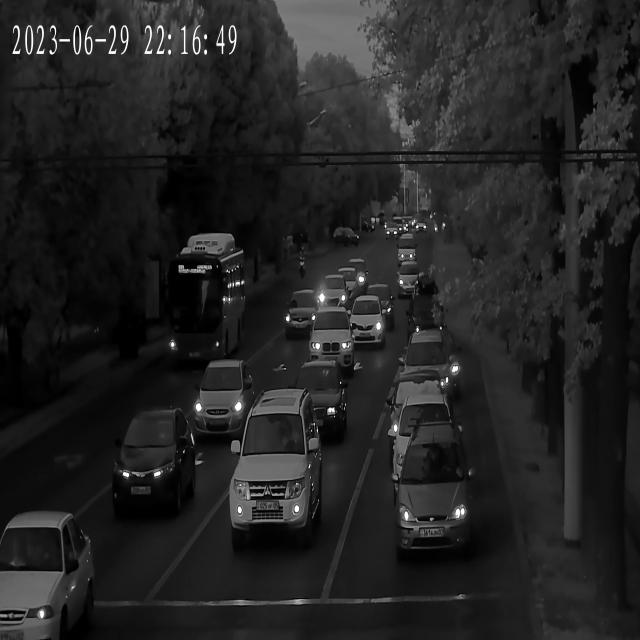Bus: (164, 234, 252, 372)
Car: (232, 395, 322, 549), (2, 510, 95, 639), (394, 430, 475, 560), (108, 408, 195, 516), (392, 394, 465, 471), (192, 362, 256, 439), (294, 362, 351, 432), (397, 334, 453, 400), (386, 378, 449, 431), (306, 312, 357, 368), (342, 294, 387, 346), (283, 289, 329, 337), (360, 286, 398, 325), (316, 274, 351, 308), (334, 262, 367, 295), (397, 264, 427, 298), (397, 240, 416, 261), (381, 224, 397, 238)
